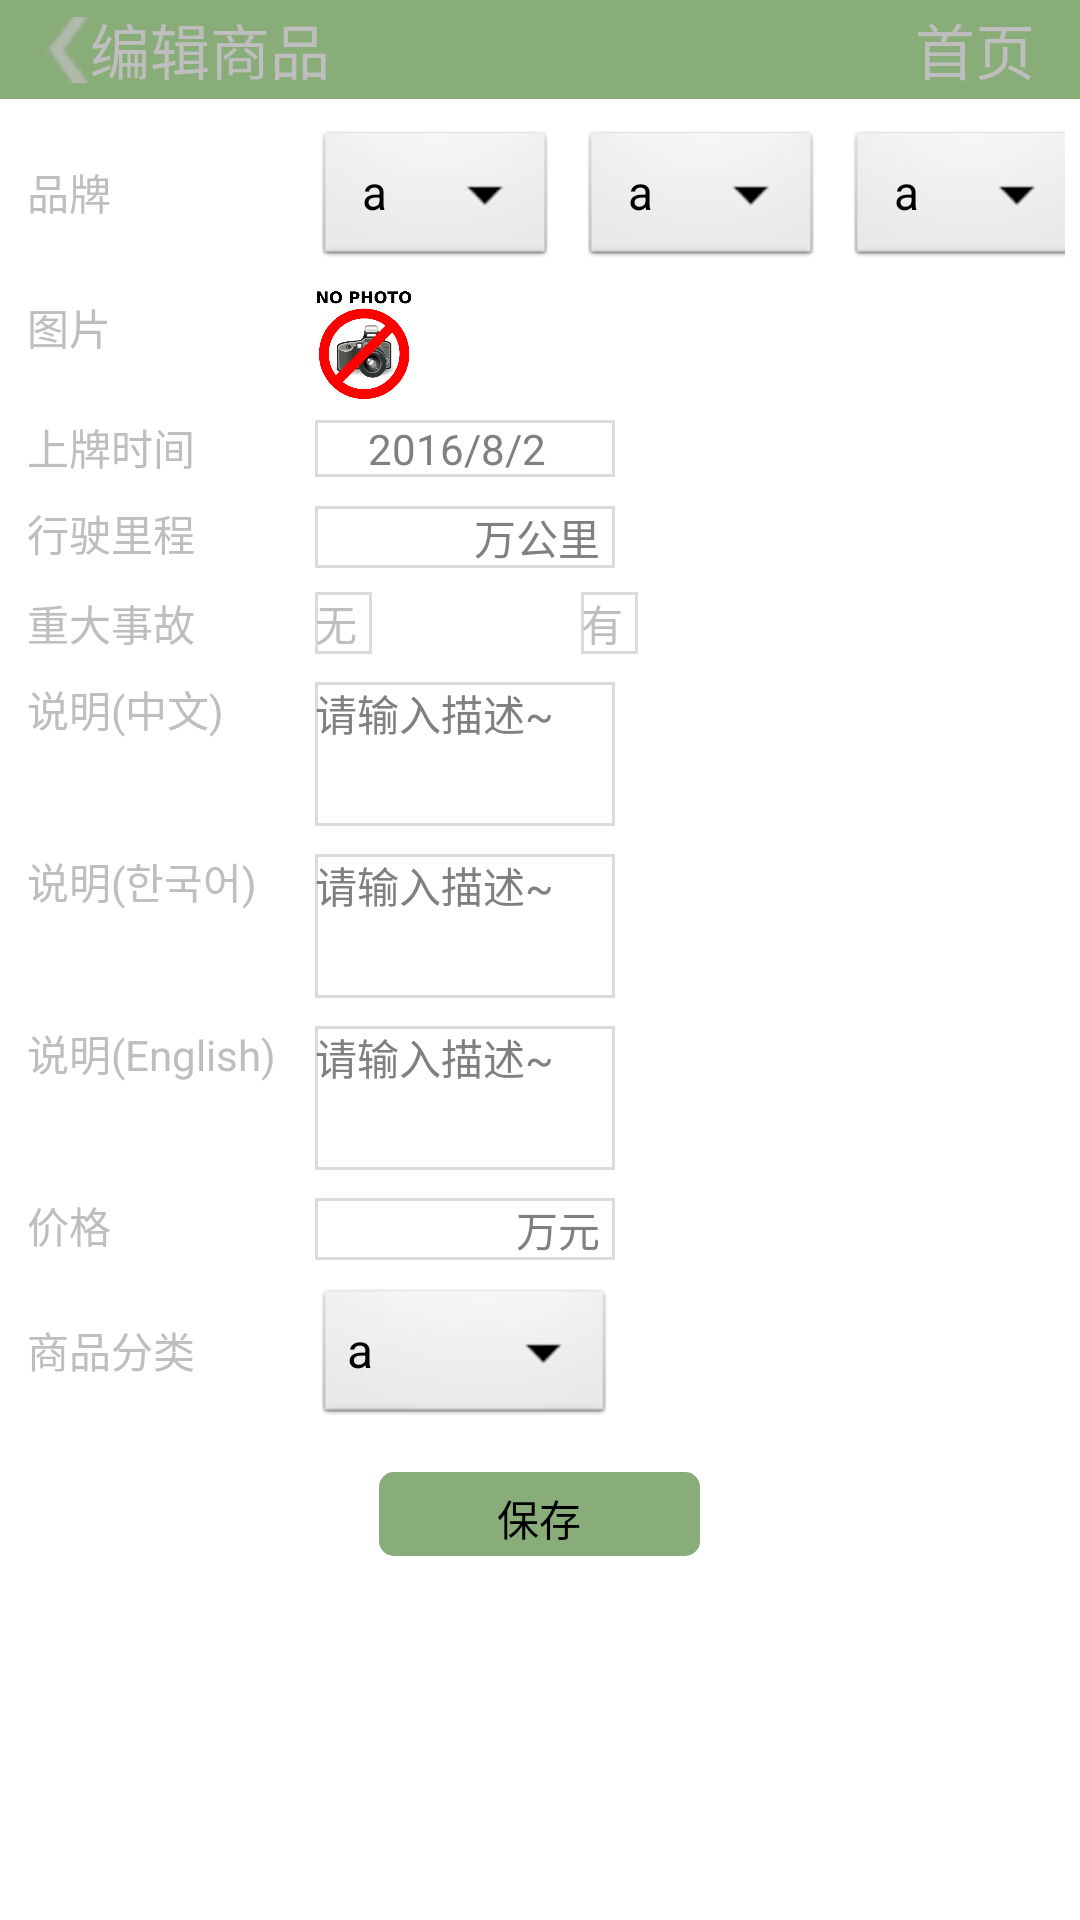

Icon click points for this 1080 x 1920 phone screenshot, format (x,y):
arrow left: (68,50)
